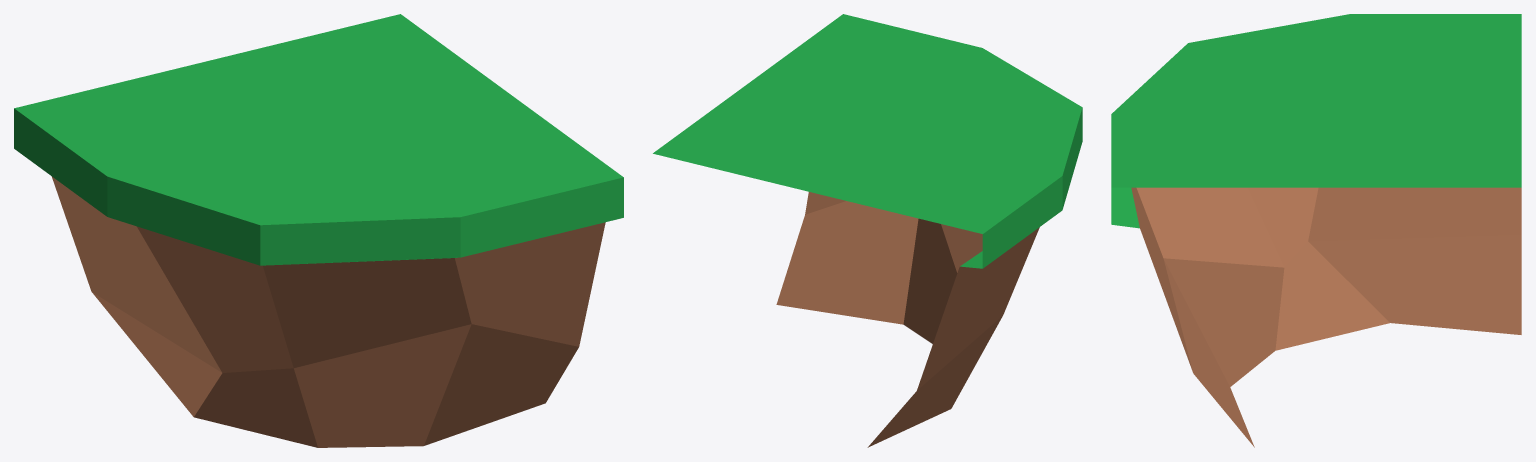
The model's file is Corner Top.fbx.
3 renders of one model, left to right at view 1: azimuth 30°, elevation 25°; view 2: azimuth 150°, elevation 25°; view 3: azimuth 270°, elevation 25°, orthographic. The views are drawn at different scales.
Visible parts, largest first — view 1: Corner Top; view 2: Corner Top; view 3: Corner Top.
Part boxes in pixels (x1=…): Corner Top: x1=14, y1=14, x2=623, y2=447; Corner Top: x1=653, y1=14, x2=1082, y2=447; Corner Top: x1=1111, y1=14, x2=1521, y2=447.
Size of the model in its own units: 50 by 35 by 50.
